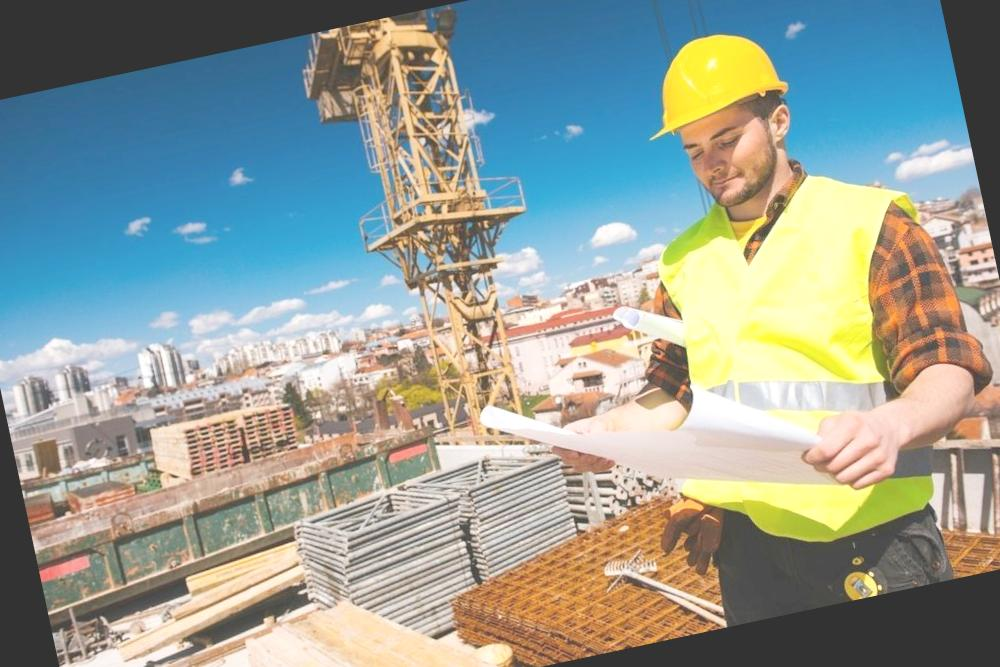helmet: (622, 21, 794, 140)
person: (577, 0, 1000, 632)
